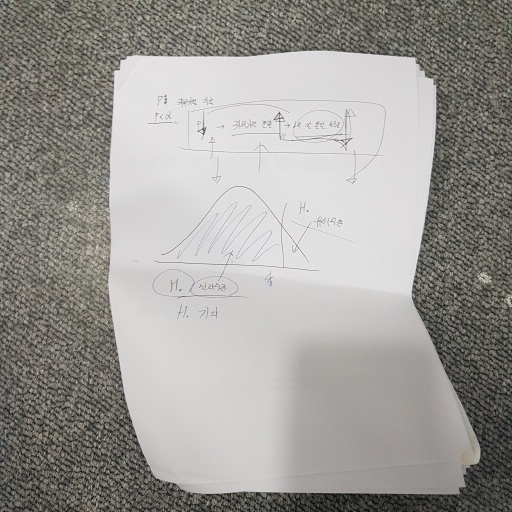Paper_3: (95, 42, 497, 512)
